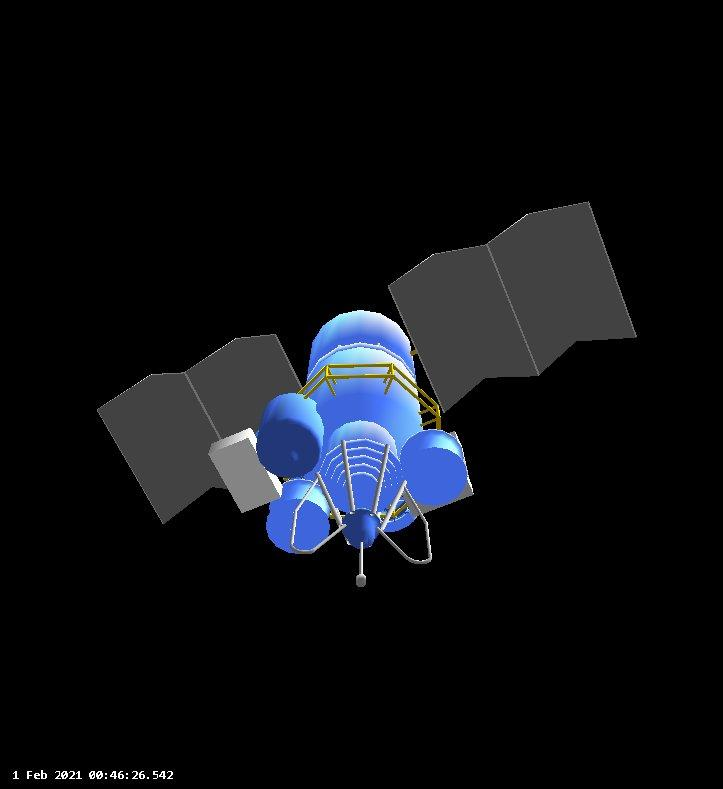antenna: (287, 410, 443, 592)
body: (302, 305, 426, 533)
solar: (382, 193, 643, 418), (93, 329, 324, 524)
